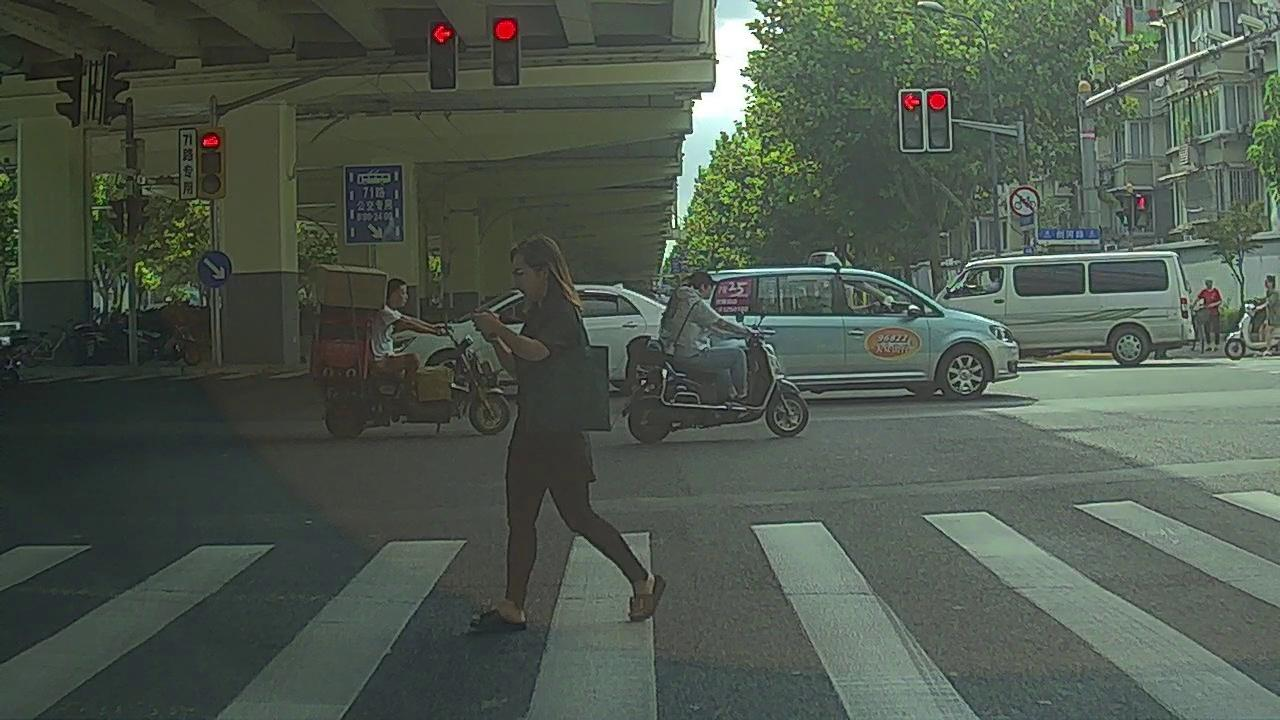traffic_light: (491, 18, 519, 85), (924, 84, 951, 151), (430, 22, 455, 89), (898, 87, 922, 149)
